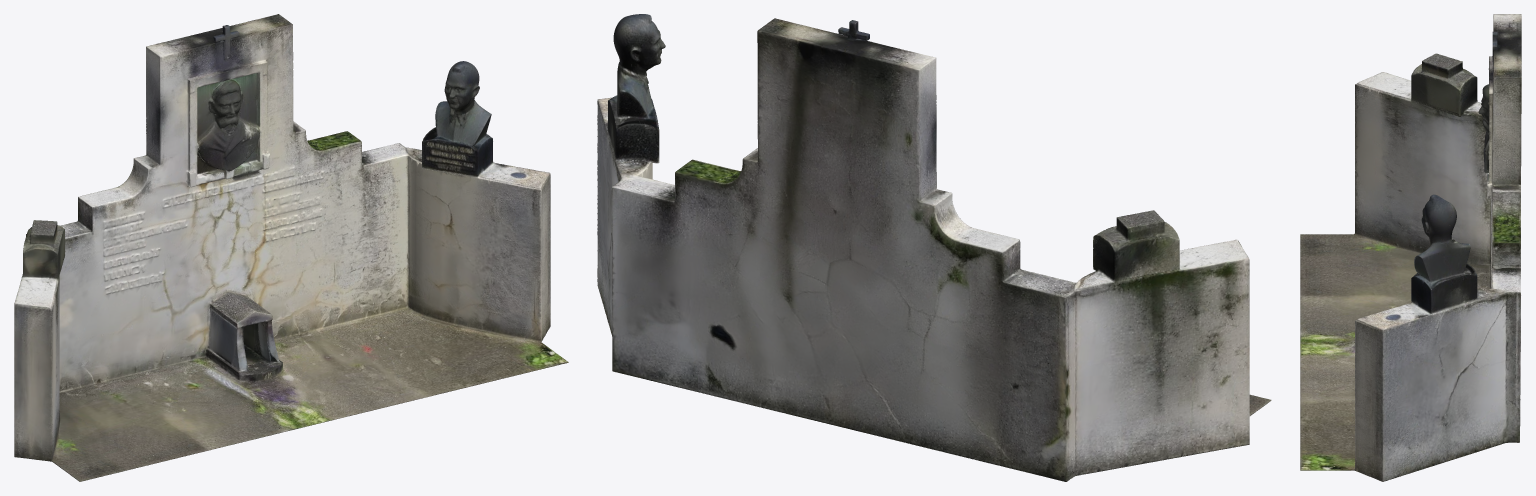
The model's file is jovan-jovanovic-joska-grob.glb.
3 views of the same model, side by side, from view 1: azimuth 30°, elevation 25°; view 2: azimuth 150°, elevation 25°; view 3: azimuth 270°, elevation 25° (orthographic). The views are drawn at different scales.
Bounding box in the file's own units: 1.9 × 1.1 × 0.6872.
1 material, 1 textured.
